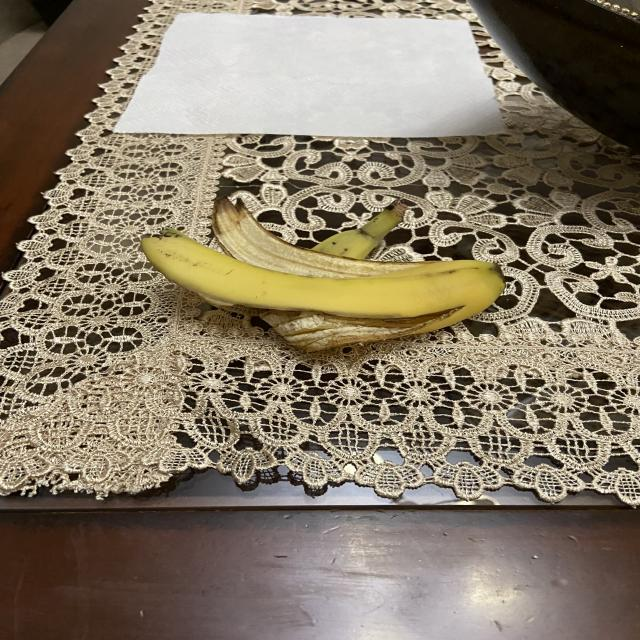banana-peel: (139, 195, 505, 352)
